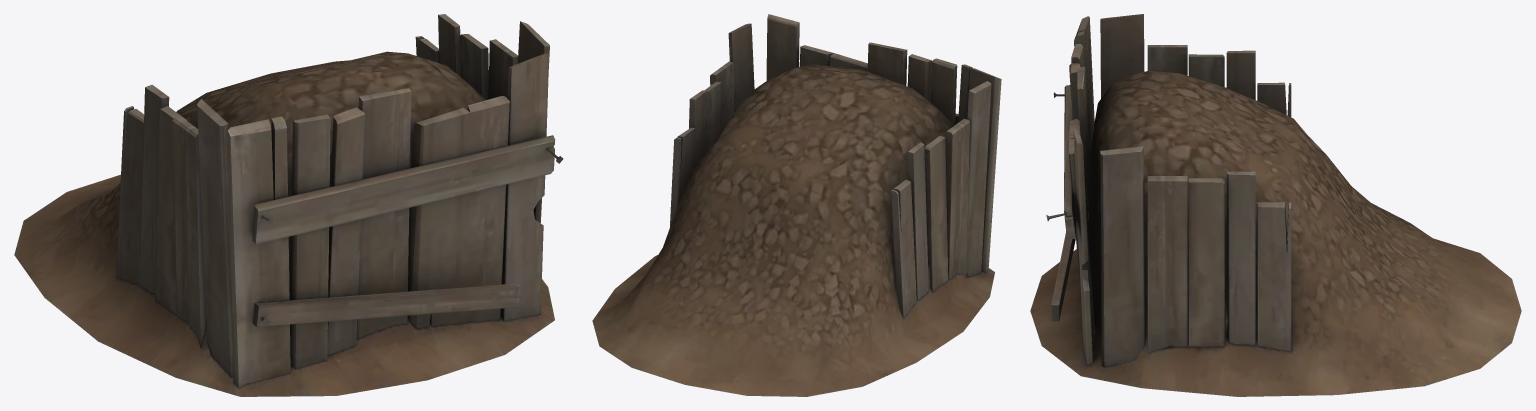
3 renders of one model, left to right at view 1: azimuth 30°, elevation 25°; view 2: azimuth 150°, elevation 25°; view 3: azimuth 270°, elevation 25°, orthographic. The views are drawn at different scales.
Visible parts, largest first — view 1: body0_model0_lod0_mesh0; view 2: body0_model0_lod0_mesh0; view 3: body0_model0_lod0_mesh0.
Part boxes in pixels (x1=…): body0_model0_lod0_mesh0: x1=14, y1=14, x2=563, y2=396; body0_model0_lod0_mesh0: x1=592, y1=14, x2=1001, y2=396; body0_model0_lod0_mesh0: x1=1030, y1=14, x2=1521, y2=396.
Bounding box in the file's own units: 124 × 78.1 × 150.
1 material, 1 textured.
